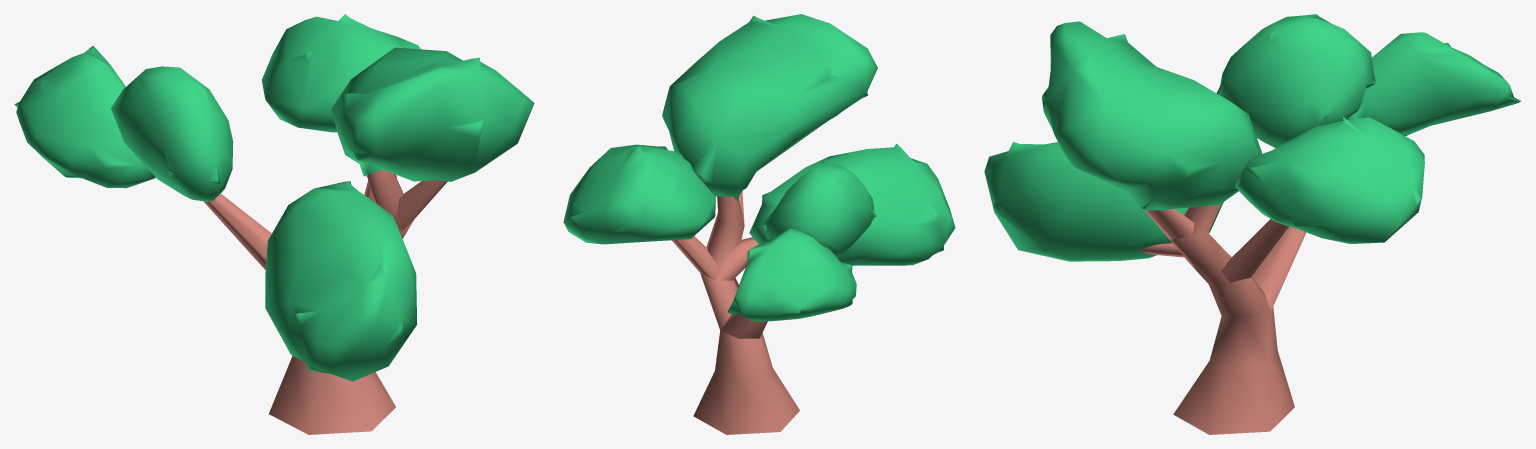
File: Only1Treev2.fbx
3 views of the same model, side by side, from view 1: azimuth 30°, elevation 25°; view 2: azimuth 150°, elevation 25°; view 3: azimuth 270°, elevation 25° (orthographic). The views are drawn at different scales.
Parts seen in each view (by area): view 1: oak; view 2: oak; view 3: oak.
Boxes of the visible parts, <box> form: oak: <box>14,14,534,434</box>; oak: <box>563,14,955,434</box>; oak: <box>984,14,1521,434</box>.
Size of the model in its own units: 665 by 723 by 910.
